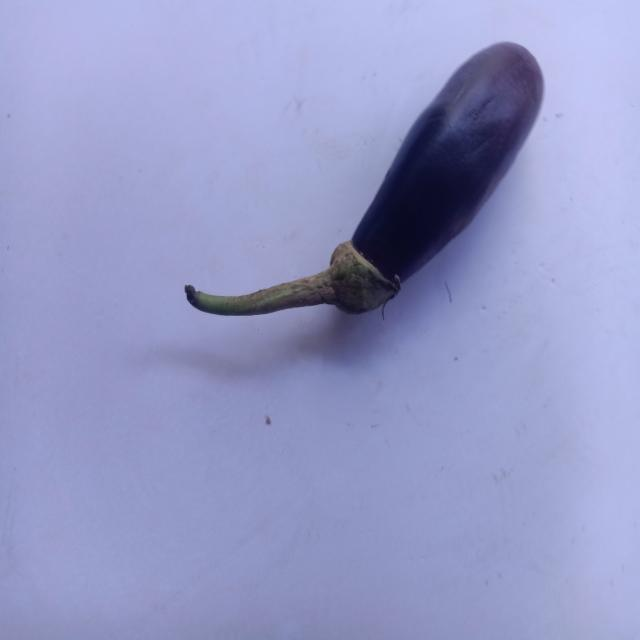Brinjal: (158, 29, 564, 362)
